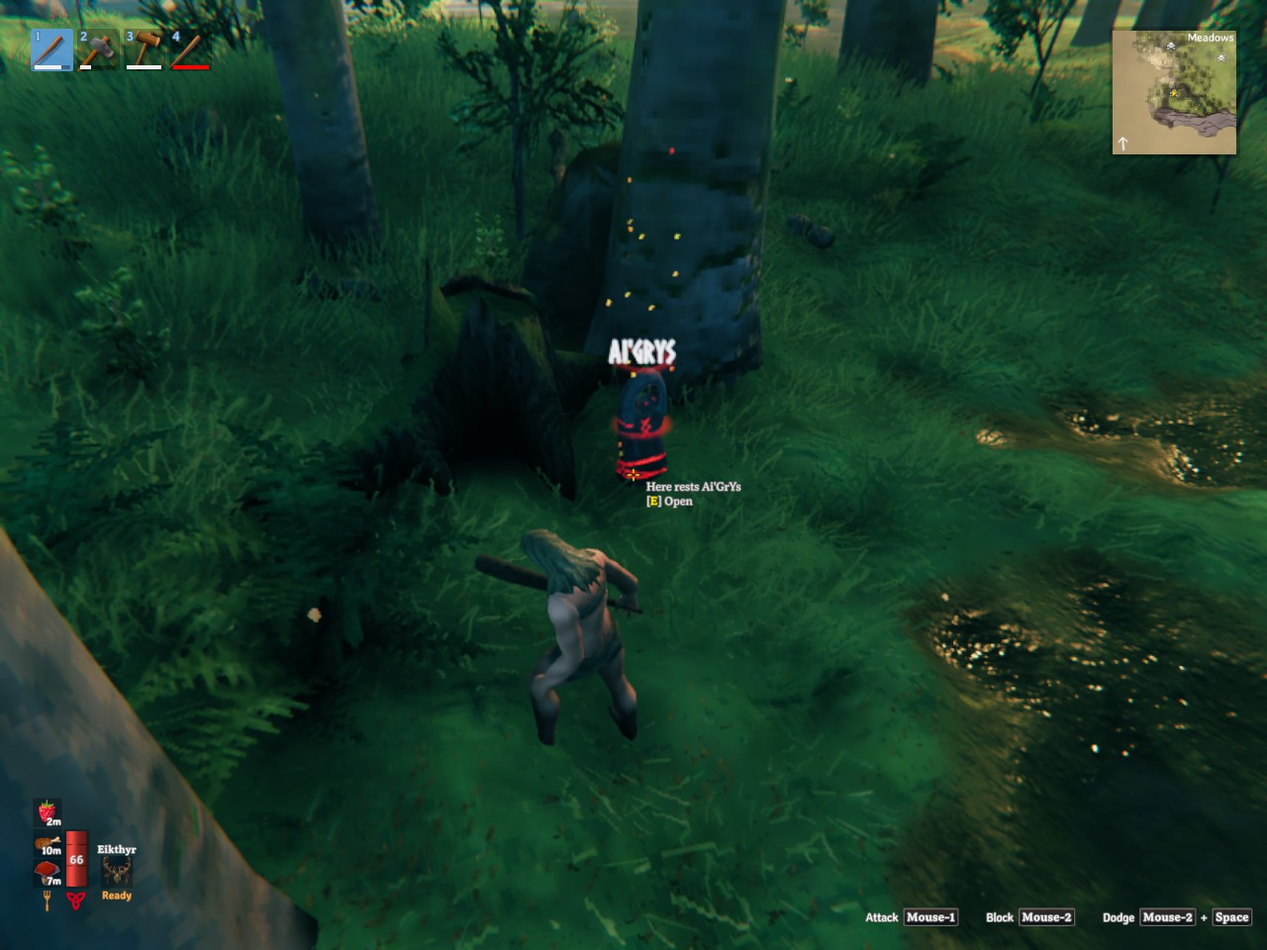Food Indicator: (36, 797, 63, 891)
Gravestone: (616, 368, 667, 481)
Health Bar: (63, 820, 90, 891)
Hotbar: (25, 21, 398, 78)
Stone: (807, 227, 833, 248), (786, 214, 812, 234)
